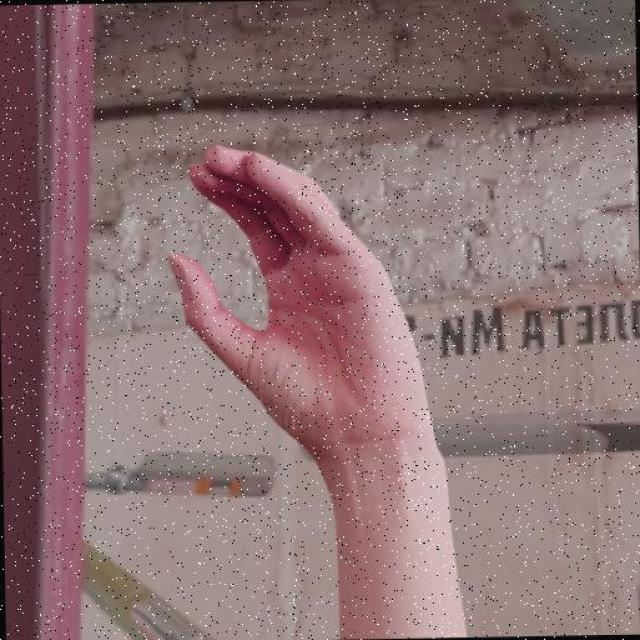C: (157, 134, 422, 457)
